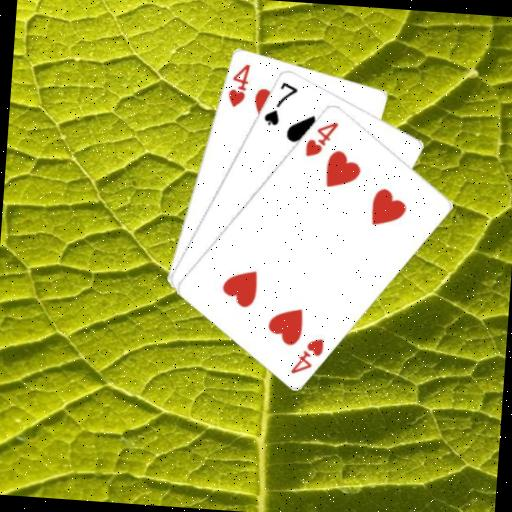4H: (287, 333, 326, 378), (302, 116, 341, 159), (224, 60, 252, 110)
7S: (260, 78, 300, 129)
